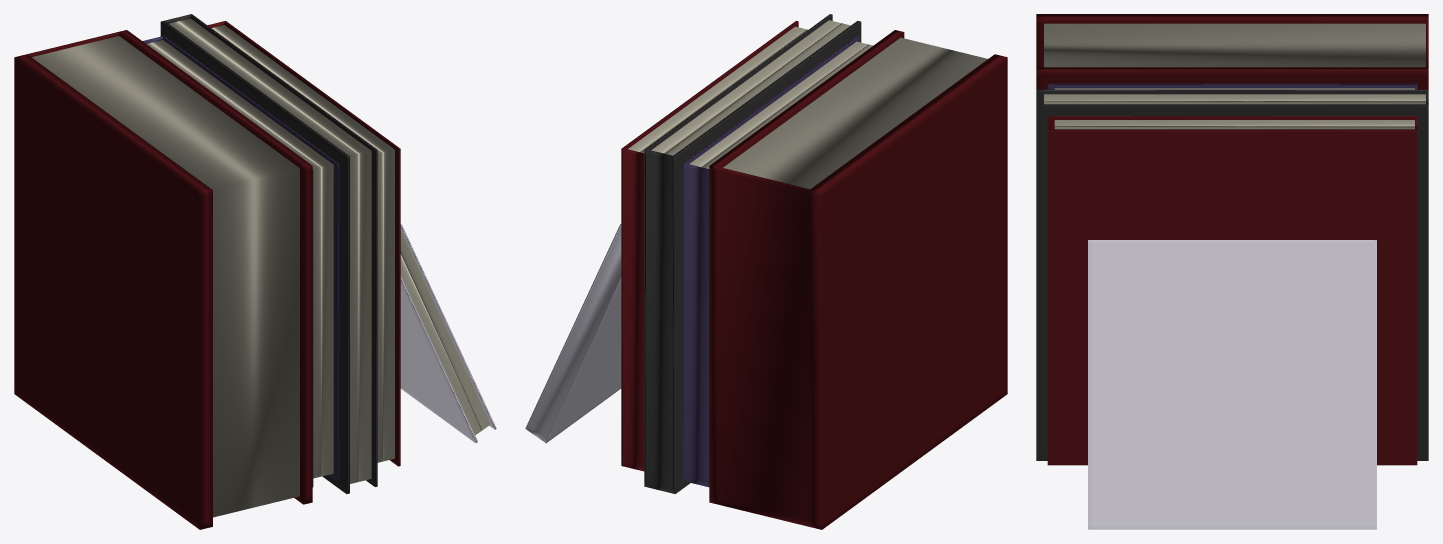
File: abowBookCollection1.fbx
3 renders of one model, left to right at view 1: azimuth 30°, elevation 25°; view 2: azimuth 150°, elevation 25°; view 3: azimuth 270°, elevation 25°, orthographic. The views are drawn at different scales.
Visible parts, largest first — view 1: Cube, Cube.002, Cube.001, Cube.003, Cube.004; view 2: Cube, Cube.002, Cube.001, Cube.003, Cube.004; view 3: Cube.004, Cube.003, Cube, Cube.002, Cube.001.
Boxes of the visible parts, x1,y1,x2,y2 form: Cube: (14, 30, 312, 529); Cube.002: (160, 14, 377, 493); Cube.001: (142, 36, 339, 486); Cube.003: (207, 21, 400, 466); Cube.004: (400, 224, 496, 443); Cube: (709, 30, 1007, 529); Cube.002: (644, 14, 861, 493); Cube.001: (682, 36, 872, 487); Cube.003: (621, 21, 807, 471); Cube.004: (525, 224, 621, 443); Cube.004: (1088, 240, 1376, 529); Cube.003: (1047, 116, 1417, 465); Cube: (1036, 14, 1428, 89); Cube.002: (1036, 89, 1428, 460); Cube.001: (1047, 83, 1417, 89).
Size of the model in its own units: 200 by 203 by 200.
